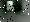person: (8, 3, 15, 14)
